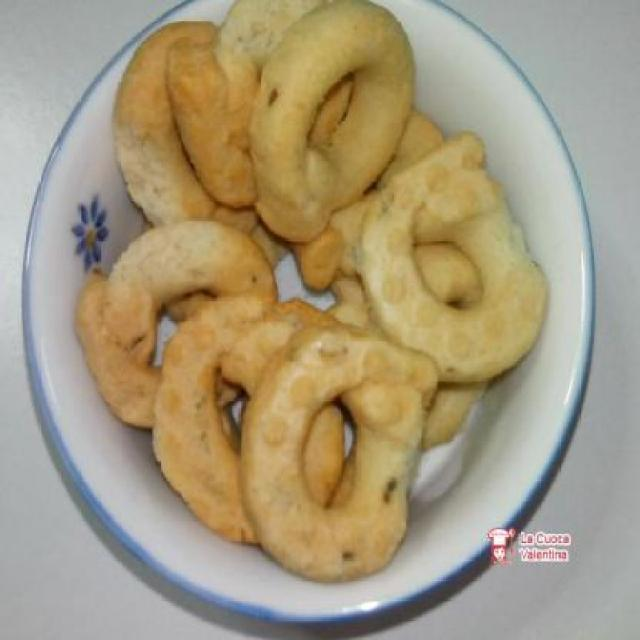Taralli: (76, 0, 553, 582)
